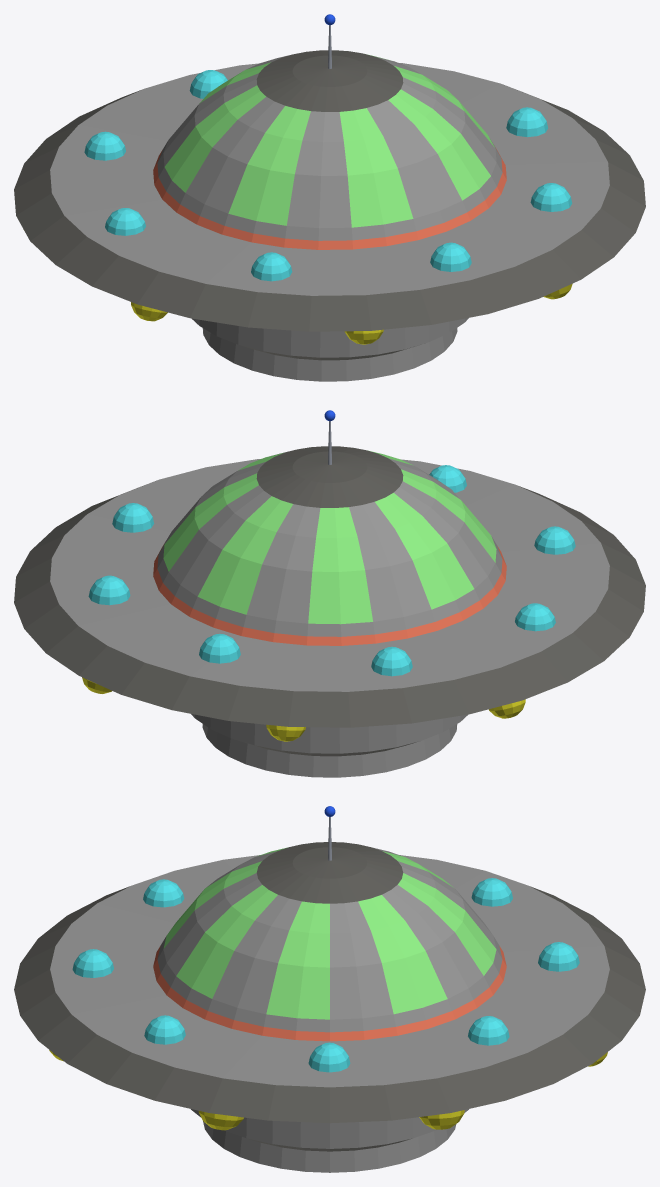
File: isiksizufo.fbx
The picture shows the model from 3 angles, top to bottom: view 1: azimuth 30°, elevation 25°; view 2: azimuth 150°, elevation 25°; view 3: azimuth 270°, elevation 25°; orthographic projection.
Visible parts, largest first — view 1: Sphere, Sphere.002; view 2: Sphere, Sphere.004; view 3: Sphere, Sphere.003.
Part boxes in pixels (<box>): Sphere: <box>14,50,645,381</box>; Sphere.002: <box>344,283,572,344</box>; Sphere: <box>14,446,645,777</box>; Sphere.004: <box>82,677,305,741</box>; Sphere: <box>14,842,645,1172</box>; Sphere.003: <box>198,1110,464,1130</box>.
Size of the model in its own units: 352 by 192 by 352.
